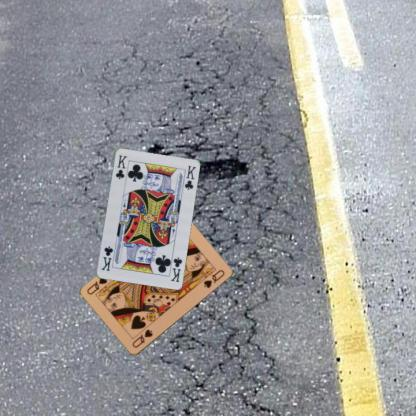Kc: (168, 255, 183, 283), (113, 153, 128, 180)
Qs: (130, 326, 154, 350)
